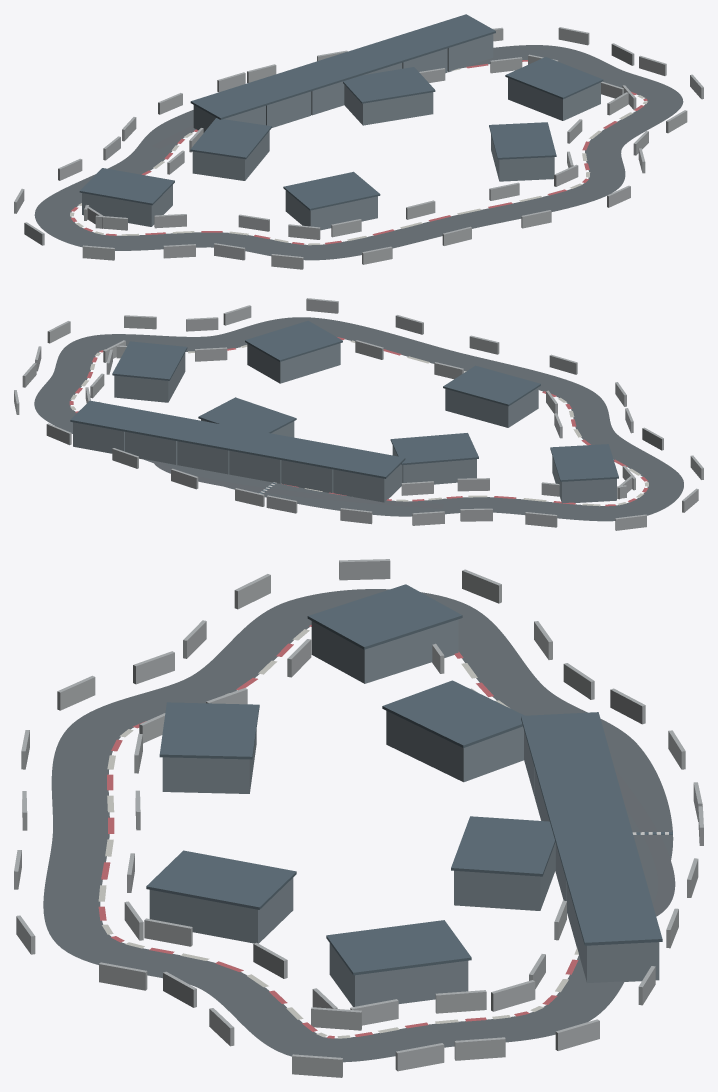
3 renders of one model, top to bottom at view 1: azimuth 30°, elevation 25°; view 2: azimuth 150°, elevation 25°; view 3: azimuth 270°, elevation 25°, orthographic. The views are drawn at different scales.
Parts seen in each view (by area): view 1: asphalt, grandstand_roof_1, grandstand_roof_3, grandstand_roof_4, grandstand_roof_5, grandstand_roof_0, grandstand_roof_2, grandstand_1, grandstand_0, grandstand_3, grandstand_4, grandstand_5 (+26 smaller); view 2: asphalt, grandstand_roof_3, grandstand_roof_2, grandstand_roof_5, grandstand_roof_1, grandstand_roof_4, grandstand_2, grandstand_3, grandstand_roof_0, pit_building_0, grandstand_1, grandstand_5 (+32 smaller); view 3: asphalt, grandstand_roof_4, grandstand_roof_2, grandstand_roof_1, grandstand_roof_5, grandstand_roof_3, grandstand_roof_0, grandstand_4, grandstand_2, grandstand_5, grandstand_1, grandstand_0 (+24 smaller).
Part boxes in pixels (x1,y1,x2,y2): asphalt: [34, 45, 683, 260]; grandstand_roof_1: [505, 57, 603, 99]; grandstand_roof_3: [283, 171, 380, 210]; grandstand_roof_4: [79, 168, 174, 205]; grandstand_roof_5: [190, 118, 271, 159]; grandstand_roof_0: [343, 67, 435, 103]; grandstand_roof_2: [489, 122, 556, 159]; grandstand_1: [508, 78, 600, 120]; grandstand_0: [344, 85, 433, 125]; grandstand_3: [285, 190, 377, 230]; grandstand_4: [82, 185, 172, 226]; grandstand_5: [192, 131, 269, 180]; asphalt: [34, 317, 683, 521]; grandstand_roof_3: [443, 365, 540, 406]; grandstand_roof_2: [245, 320, 342, 361]; grandstand_roof_5: [390, 433, 478, 465]; grandstand_roof_1: [112, 341, 187, 380]; grandstand_roof_4: [550, 444, 618, 481]; grandstand_2: [247, 343, 340, 383]; grandstand_3: [445, 387, 538, 427]; grandstand_roof_0: [198, 397, 296, 433]; pit_building_0: [333, 464, 402, 502]; grandstand_1: [114, 353, 185, 402]; grandstand_5: [392, 445, 476, 484]; asphalt: [43, 589, 673, 1062]; grandstand_roof_4: [307, 584, 462, 649]; grandstand_roof_2: [146, 850, 296, 909]; grandstand_roof_1: [326, 920, 471, 975]; grandstand_roof_5: [382, 680, 524, 747]; grandstand_roof_3: [159, 702, 259, 759]; grandstand_roof_0: [451, 816, 555, 876]; grandstand_4: [311, 619, 458, 683]; grandstand_2: [149, 878, 293, 943]; grandstand_5: [386, 711, 523, 782]; grandstand_1: [329, 943, 468, 1006]; grandstand_0: [454, 843, 555, 910].
Size of the model in its own units: 65.1 by 2.64 by 37.91.
